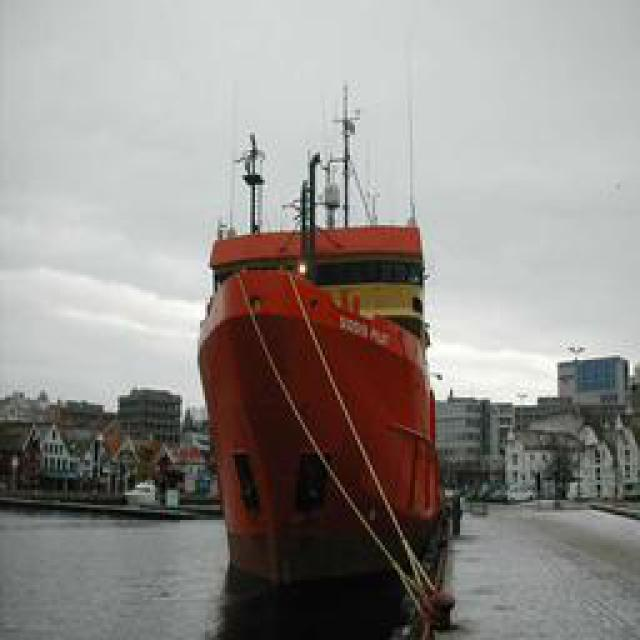Ship: (201, 102, 449, 620)
